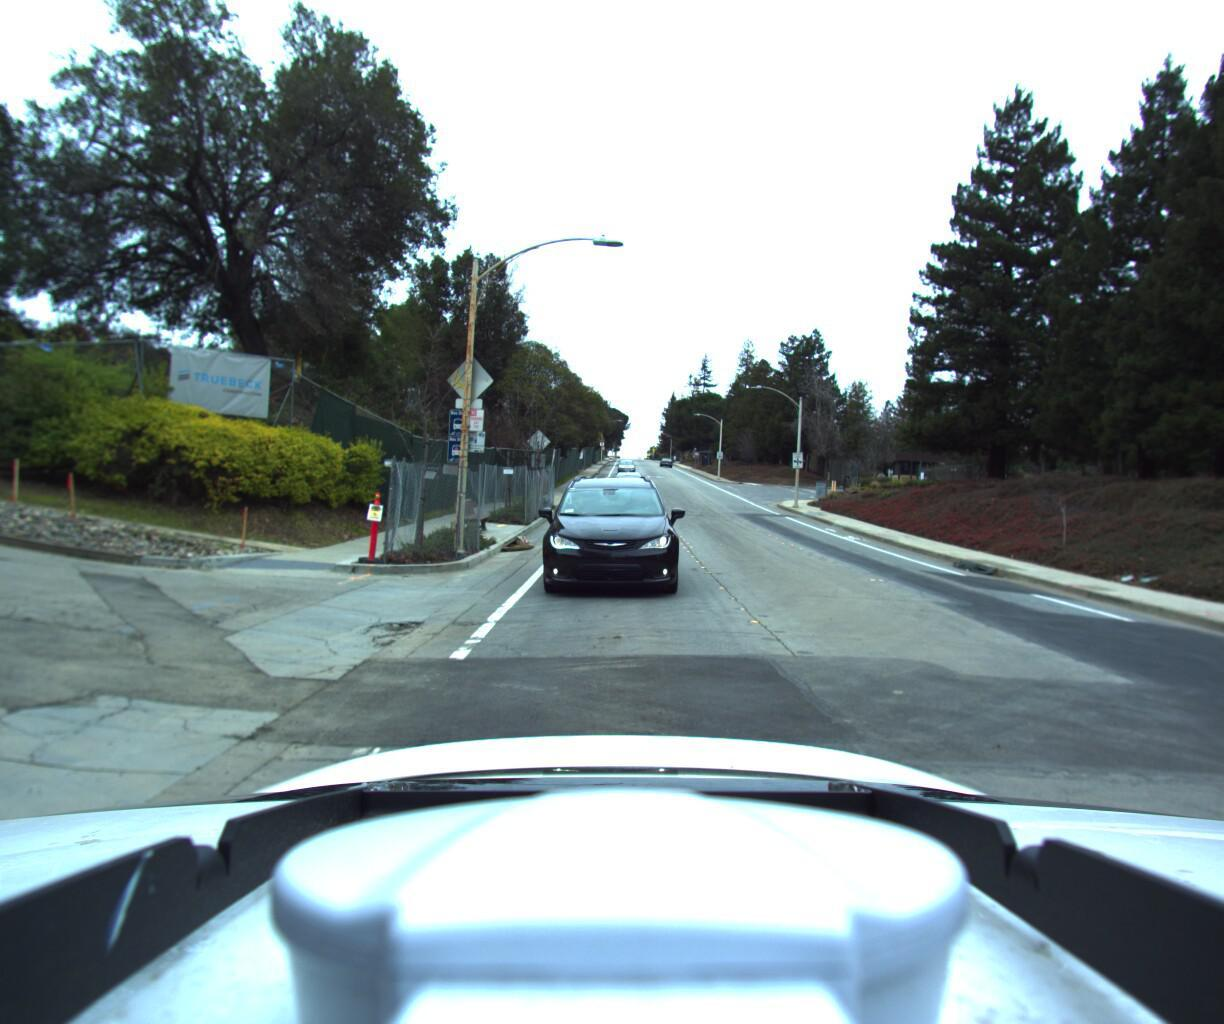car: (528, 451, 684, 603), (611, 469, 646, 500), (614, 457, 634, 476)
